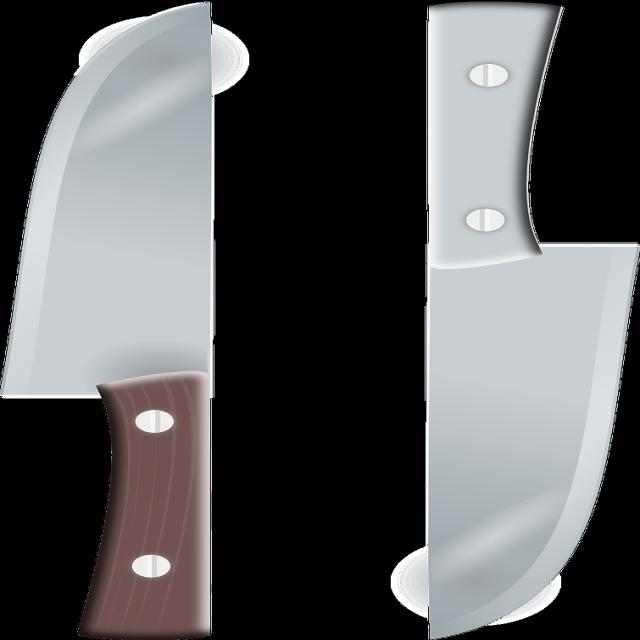Knife: (427, 2, 639, 638)
